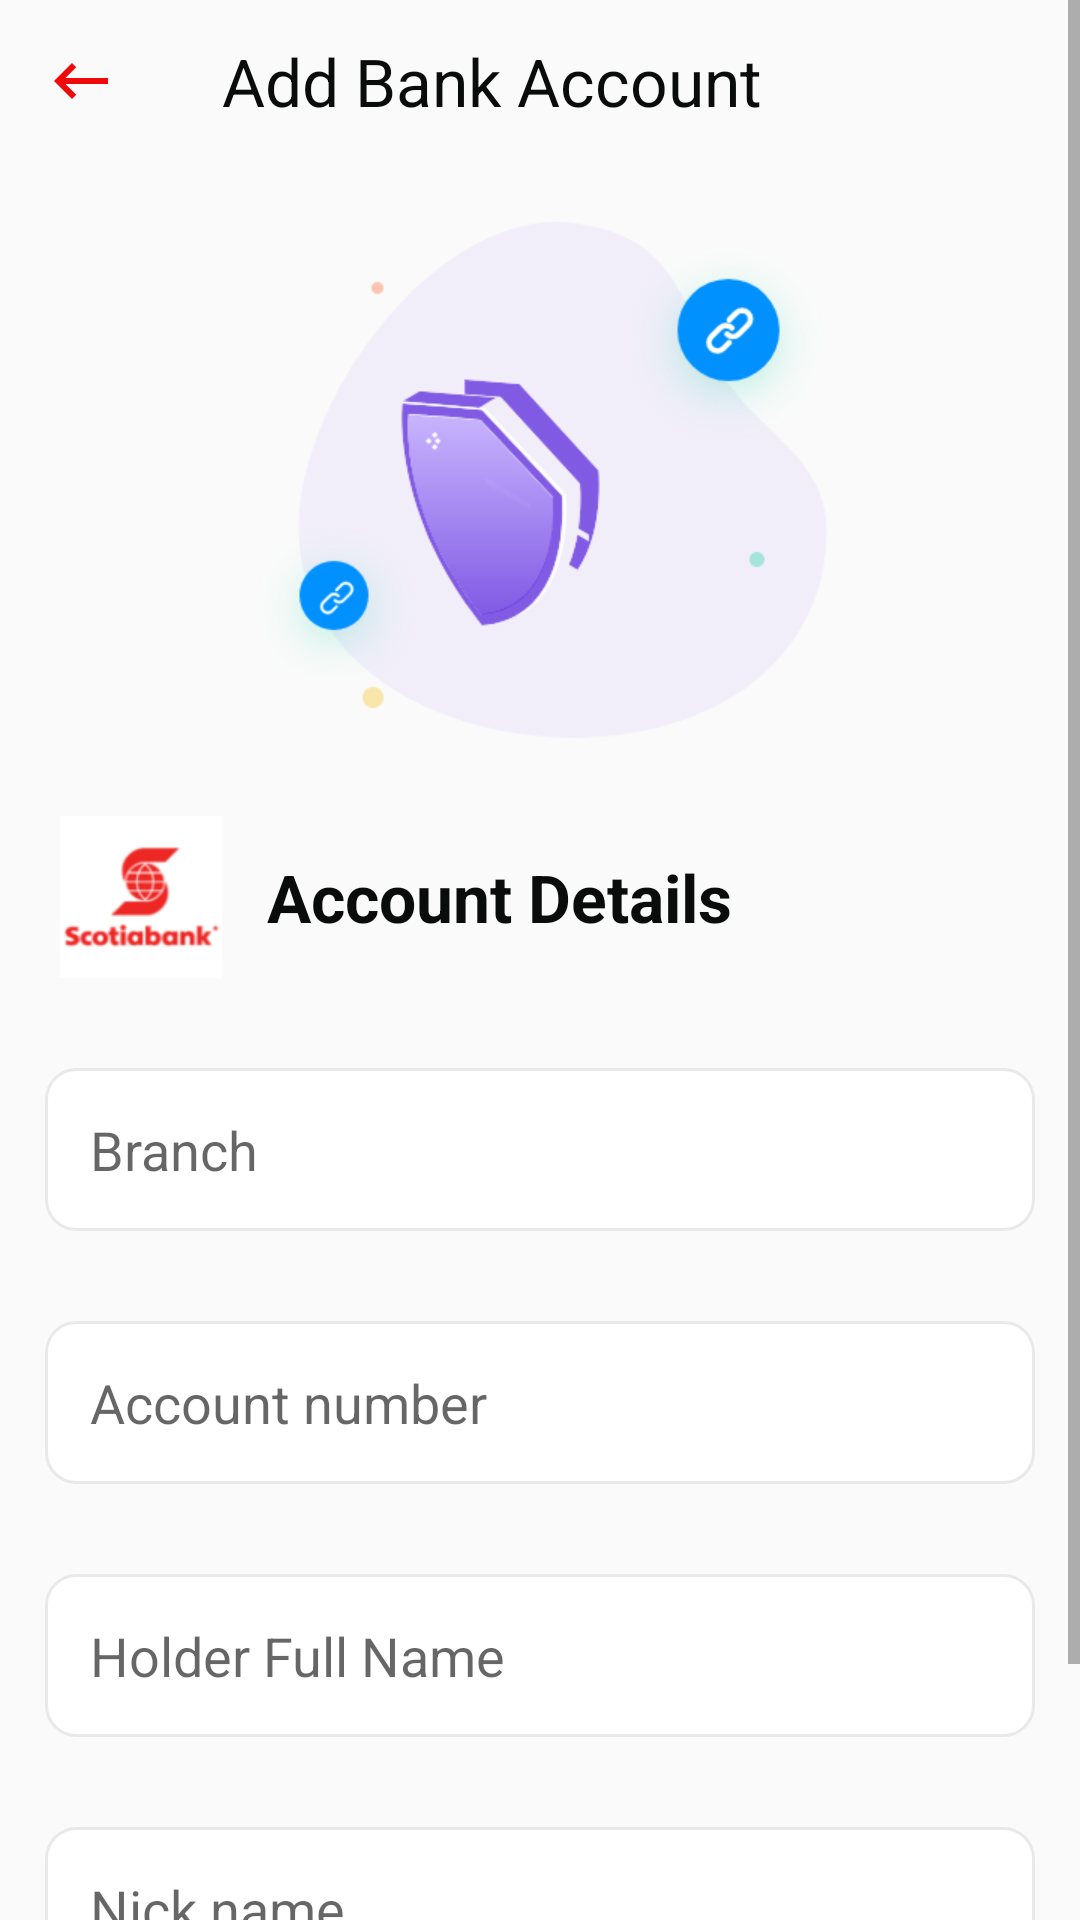

Icon bounding boxes for this 1080px×1920px phone screenshot, format (x1, y1, x2, y2):
back arrow: (54, 63, 108, 99)
